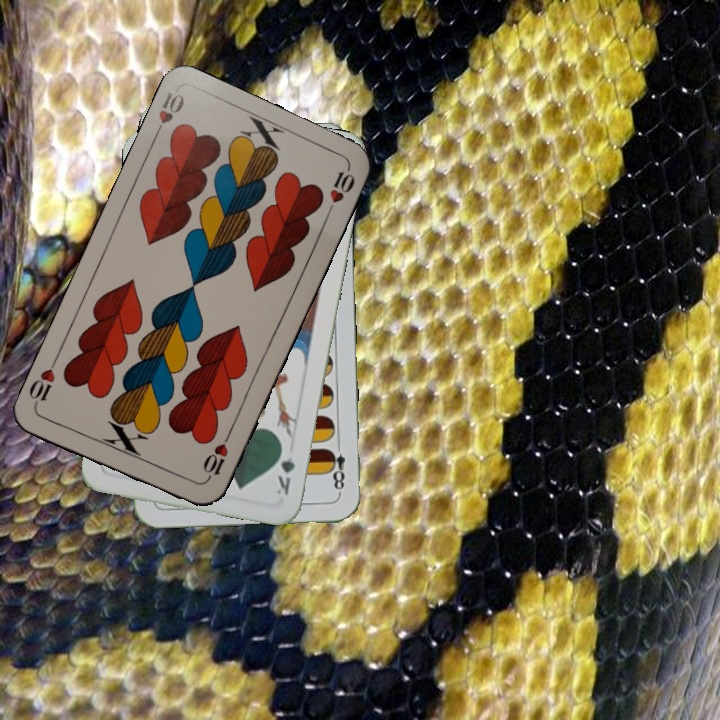E8: (324, 437, 348, 497)
GK: (271, 440, 298, 498)
H10: (149, 85, 187, 143), (199, 429, 233, 485)
